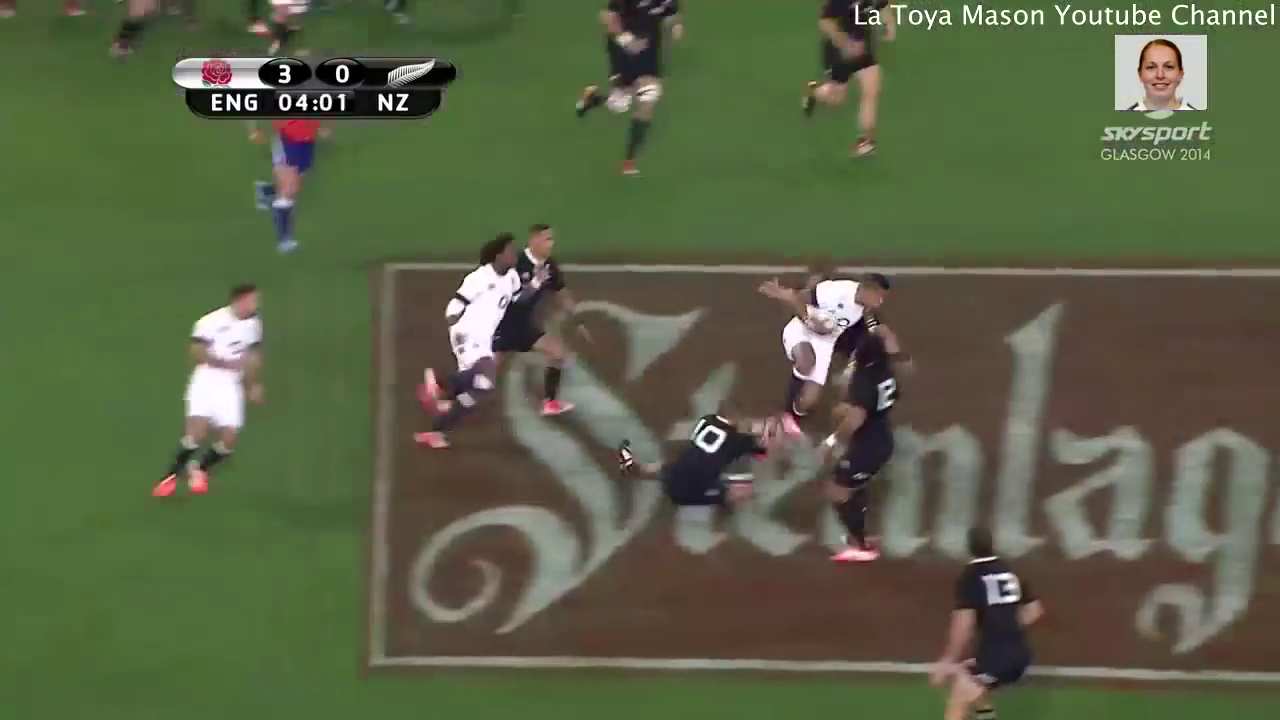player: (135, 272, 278, 507), (400, 223, 524, 465), (447, 212, 585, 424), (917, 523, 1046, 720), (567, 1, 696, 191), (753, 252, 894, 422), (593, 386, 780, 512), (817, 328, 906, 584), (794, 1, 904, 164), (239, 98, 333, 257)
